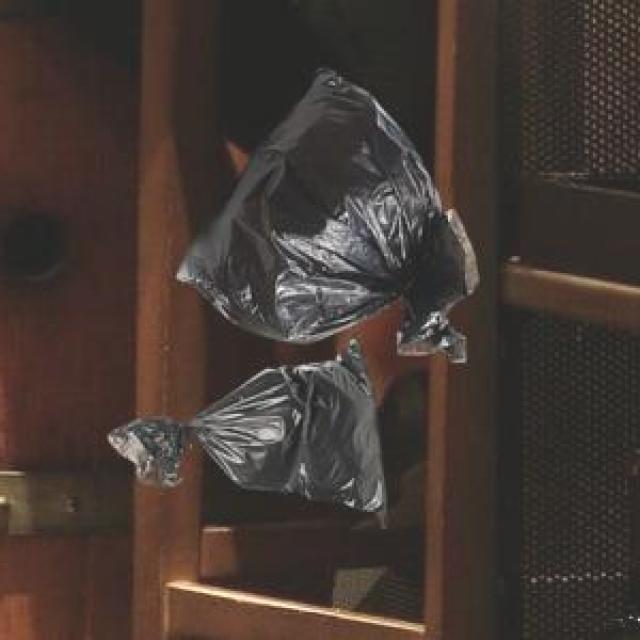Trashbag: (171, 58, 484, 365), (106, 336, 392, 529)
